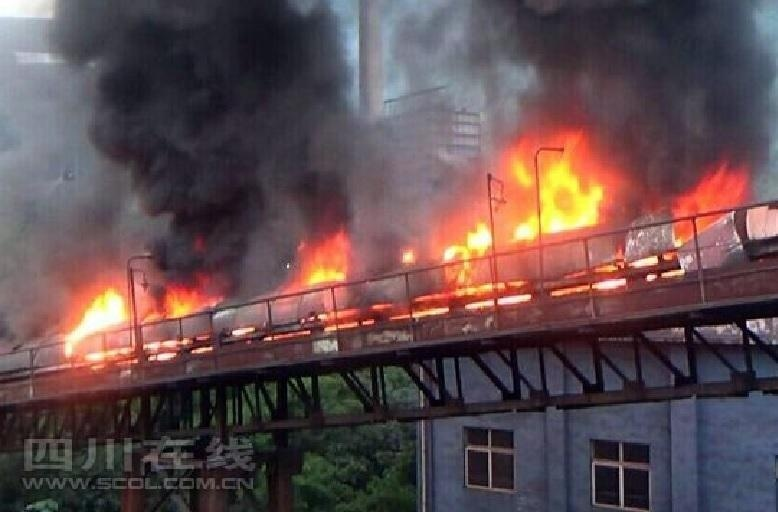fire: (505, 135, 603, 238), (670, 164, 743, 240), (63, 285, 129, 359), (295, 228, 352, 288), (440, 216, 492, 277), (160, 281, 217, 318)
